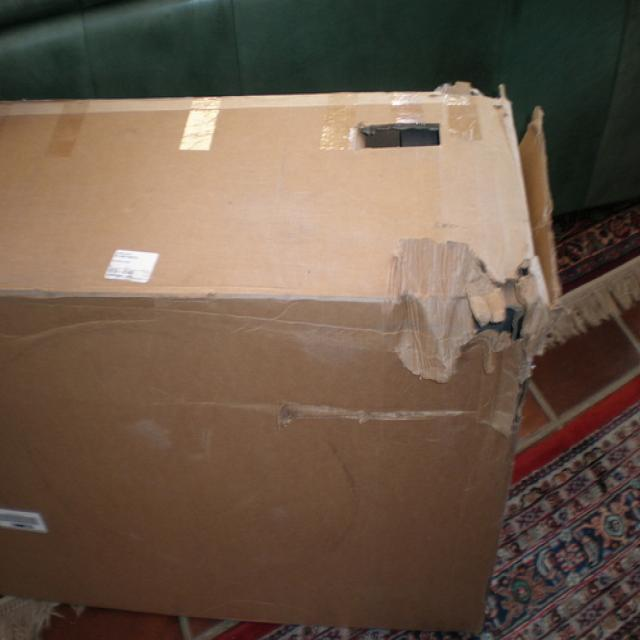Kardus kondisi rusak: (1, 98, 561, 638)
